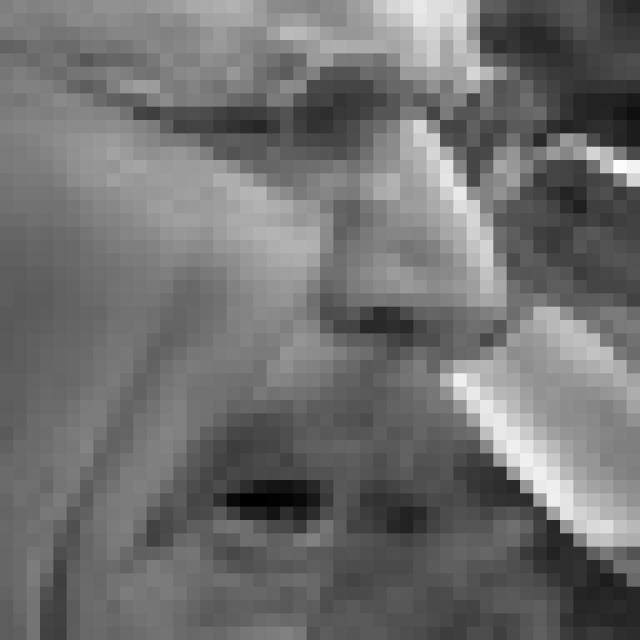disgust: (0, 0, 498, 585)
